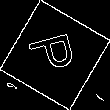P_E: (26, 30, 84, 80)
